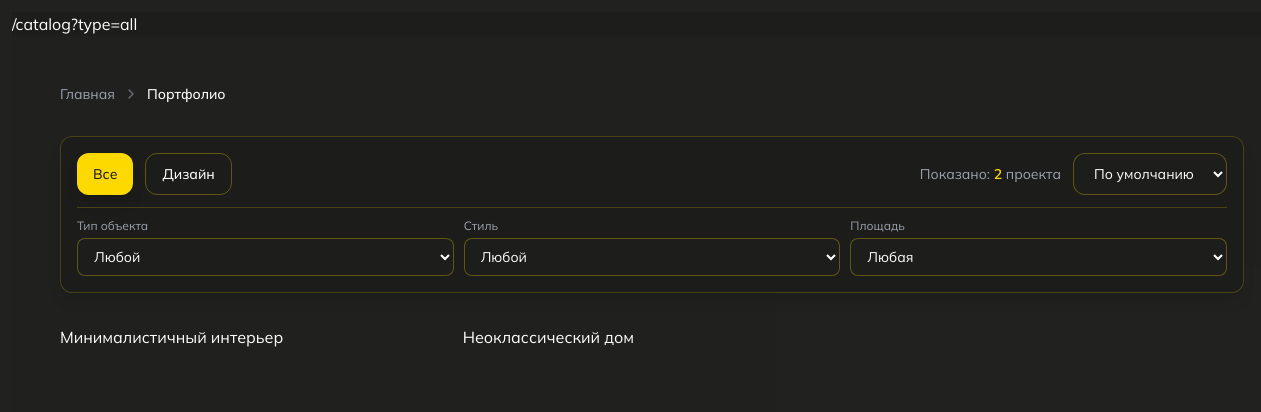
Test: catalog filters UI › скрывает пустые категории и фильтрует портфолио по существующему стилю
Expected: the button "Дизайн" is shown, [146,153,232,195]
Select "Минимализм" in the dropdown labelled "Стиль" at (652, 257), box [464,238,840,276]
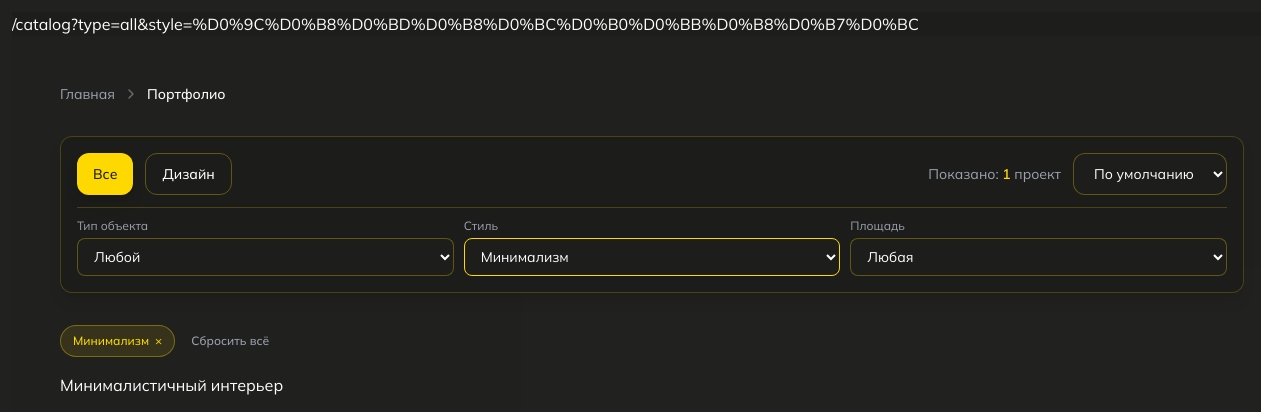
Expected: the link "Минималистичный интерьер" is shown, [60,375,283,395]
Expected: the link "Неоклассический дом" is gone
Expected: the text with test id "location" shows "style=%D0%9C", [71,14,919,34]
